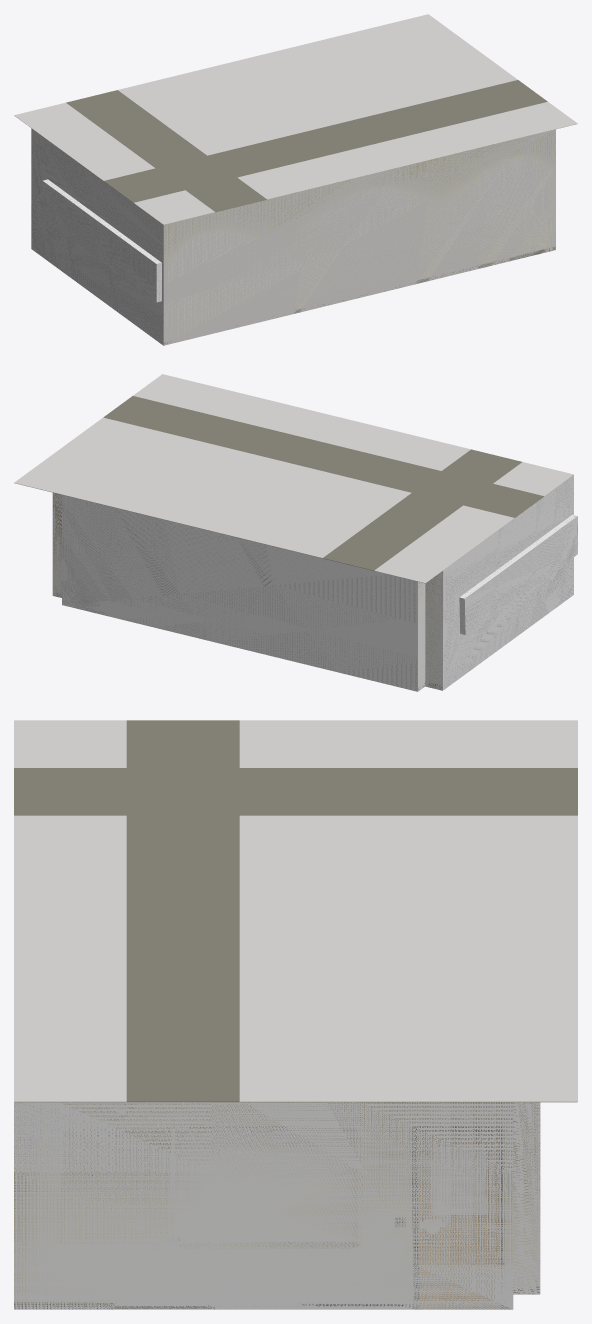
File: lab_component4.dae
The picture shows the model from 3 angles, top to bottom: view 1: azimuth 30°, elevation 25°; view 2: azimuth 150°, elevation 25°; view 3: azimuth 270°, elevation 25°; orthographic projection. The views are drawn at different scales.
Parts seen in each view (by area): view 1: Lab (×3); view 2: Lab (×4); view 3: Ceiling_Tile_1 (×160), Lab.
Boxes of the visible parts, x1,y1,x2,y2 form: Lab (×3): (31, 128, 555, 345); Lab (×4): (52, 475, 577, 691); Ceiling_Tile_1 (×160): (14, 720, 577, 1101); Lab: (14, 1102, 540, 1309).
Bounding box in the file's own units: 385 × 238 × 106.
